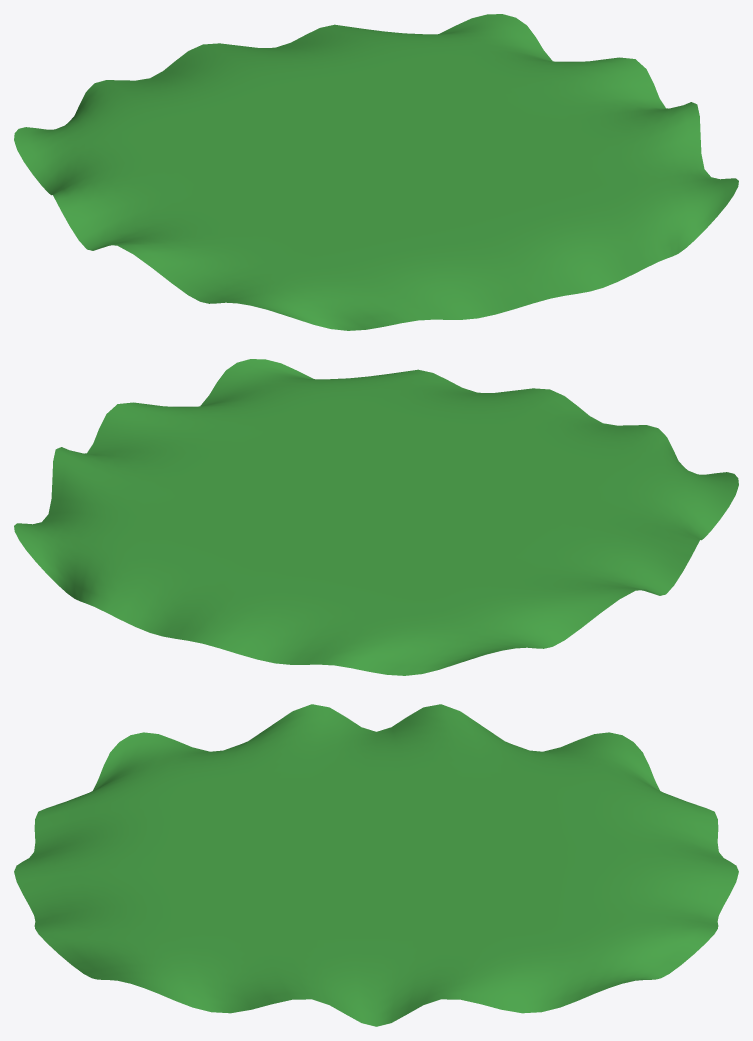
The model's file is leshuga.glb.
3 renders of one model, top to bottom at view 1: azimuth 30°, elevation 25°; view 2: azimuth 150°, elevation 25°; view 3: azimuth 270°, elevation 25°, orthographic. The views are drawn at different scales.
Visible parts, largest first — view 1: LECHUGAs.001; view 2: LECHUGAs.001; view 3: LECHUGAs.001.
Part boxes in pixels (bbox=[...]): LECHUGAs.001: bbox=[14, 14, 738, 330]; LECHUGAs.001: bbox=[14, 359, 738, 675]; LECHUGAs.001: bbox=[14, 704, 738, 1026].
Bounding box in the file's own units: 2.41 × 0.1359 × 2.47.
